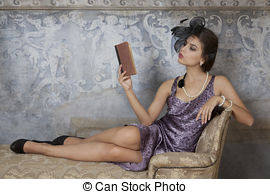face: (162, 16, 215, 76)
